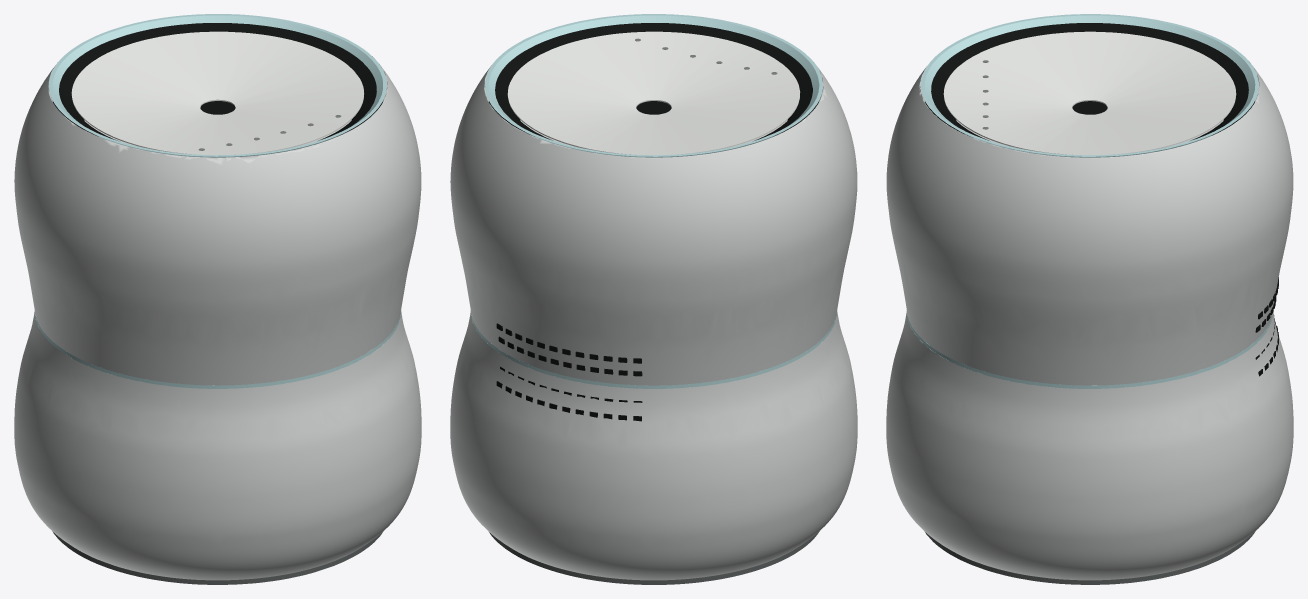
3 views of the same model, side by side, from view 1: azimuth 30°, elevation 25°; view 2: azimuth 150°, elevation 25°; view 3: azimuth 270°, elevation 25° (orthographic).
Visible parts, largest first — view 1: UpperBodyShell, ControlDish, AccentTopRing, AirOutletDarkWell, door_base_plate; view 2: UpperBodyShell, ControlDish, AirOutletDarkWell, AccentTopRing, door_base_plate; view 3: UpperBodyShell, ControlDish, AccentTopRing, AirOutletDarkWell, door_base_plate.
Part boxes in pixels (box(x1,y1,x2,y2)): UpperBodyShell: box(14, 56, 421, 580); ControlDish: box(71, 31, 364, 155); AccentTopRing: box(35, 14, 400, 388); AirOutletDarkWell: box(53, 23, 382, 140); door_base_plate: box(52, 531, 382, 584); UpperBodyShell: box(450, 56, 857, 580); ControlDish: box(507, 31, 800, 155); AirOutletDarkWell: box(489, 23, 818, 421); AccentTopRing: box(471, 14, 836, 388); door_base_plate: box(489, 531, 819, 584); UpperBodyShell: box(886, 58, 1293, 580); ControlDish: box(943, 31, 1236, 155); AccentTopRing: box(907, 14, 1272, 388); AirOutletDarkWell: box(925, 23, 1278, 376); door_base_plate: box(925, 531, 1255, 584).
Size of the model in its own units: 0.32 by 0.37 by 0.32.
